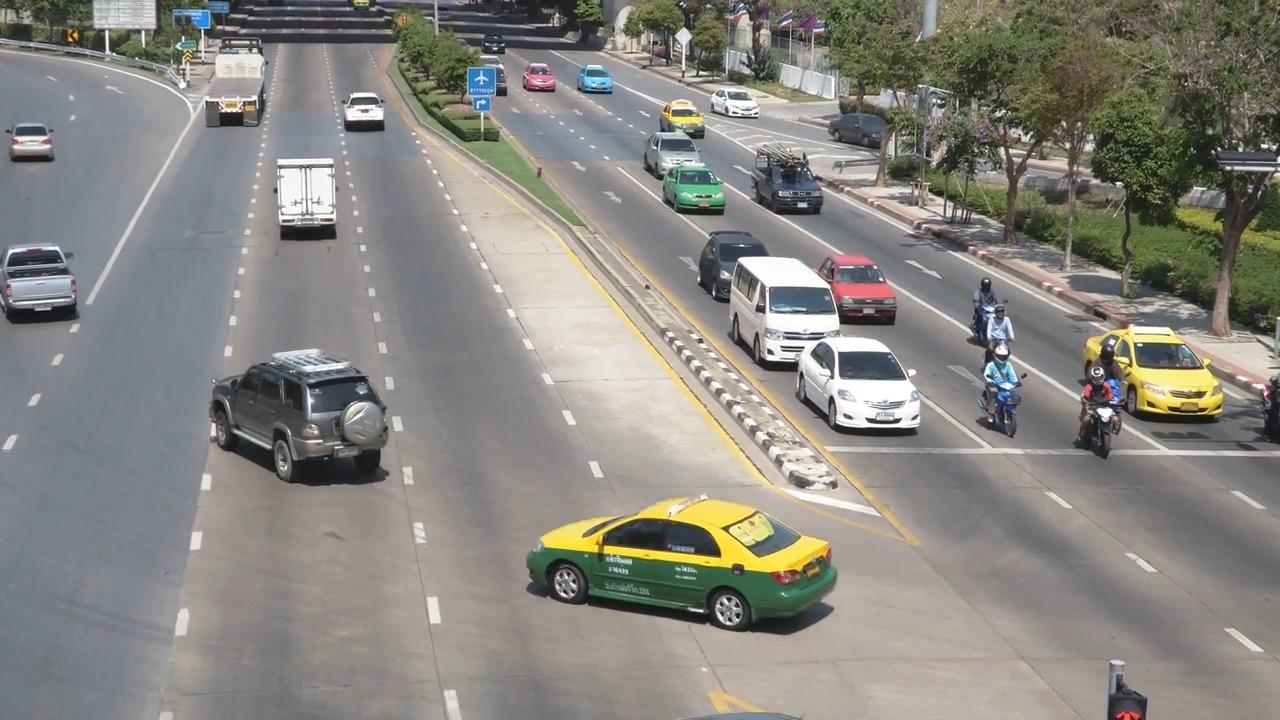CAR: (503, 469, 858, 641), (202, 329, 412, 489), (1099, 316, 1236, 428), (792, 326, 930, 433), (726, 247, 840, 367), (0, 240, 94, 333), (270, 150, 360, 247), (819, 251, 901, 327), (691, 214, 761, 292), (752, 143, 822, 215), (642, 127, 710, 182), (656, 165, 730, 215), (337, 85, 401, 136), (821, 105, 890, 152), (4, 123, 64, 173), (514, 51, 569, 96), (655, 97, 709, 134), (707, 84, 757, 121), (574, 64, 618, 105), (475, 22, 516, 54)
HGV_BUS: (198, 31, 275, 138)
MOTOR: (1070, 346, 1124, 462), (968, 346, 1029, 433), (985, 301, 1024, 361), (973, 271, 1003, 333)
